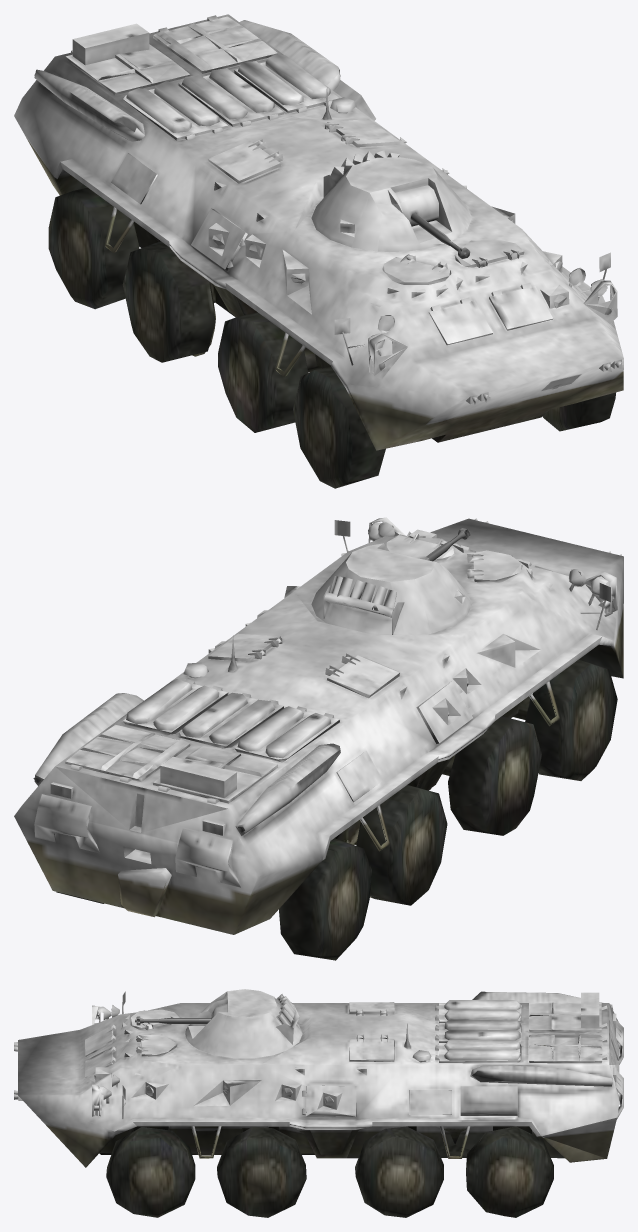
Rendered from realistic-by.8b3ffbd28d38.mech-inf.glb.
The picture shows the model from 3 angles, top to bottom: view 1: azimuth 30°, elevation 25°; view 2: azimuth 150°, elevation 25°; view 3: azimuth 270°, elevation 25°; orthographic projection. The views are drawn at different scales.
Parts seen in each view (by area): view 1: mech-inf; view 2: mech-inf; view 3: mech-inf.
Boxes of the visible parts, x1,y1,x2,y2 form: mech-inf: (14,14,623,488); mech-inf: (14,517,623,960); mech-inf: (14,989,623,1217).
Size of the model in its own units: 2.96 by 2.37 by 7.7.
Materials: 2 (2 with a texture image).
